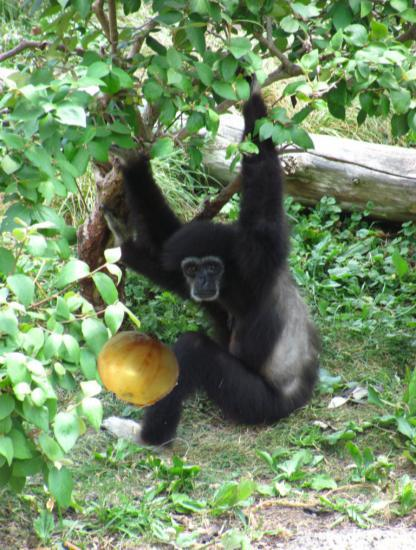Onion: (95, 325, 181, 411)
